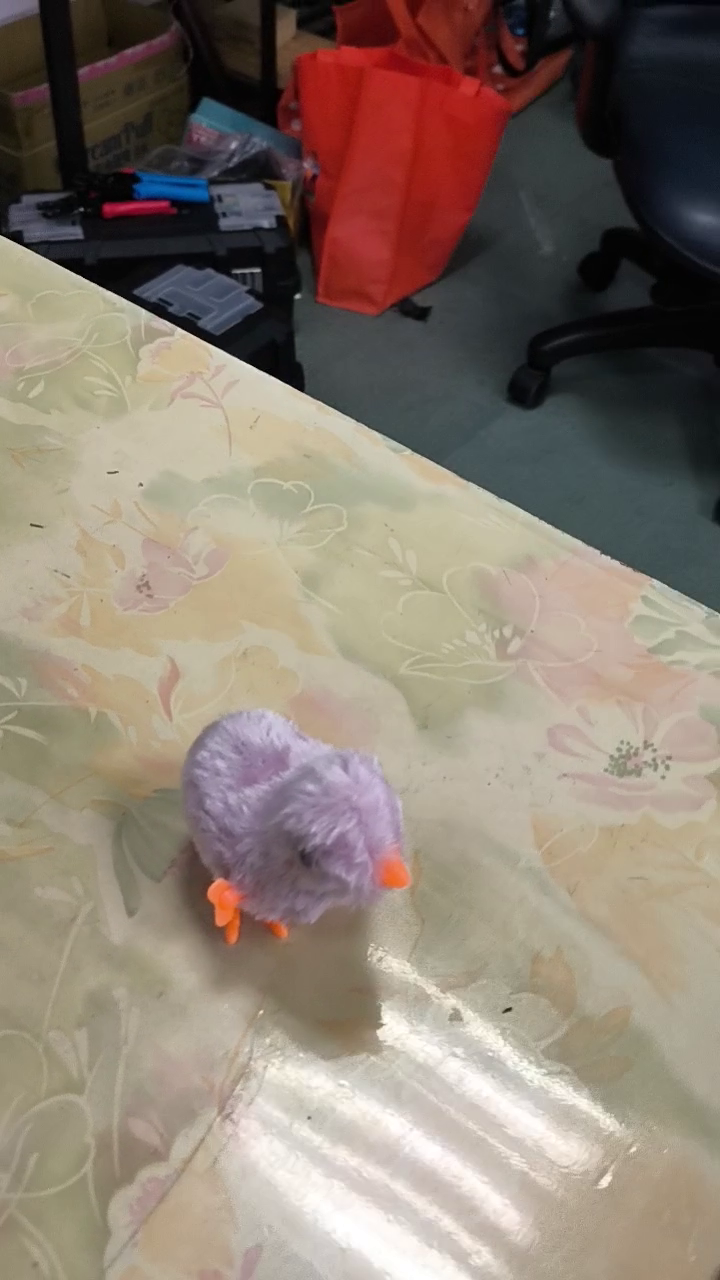pink chicken: (176, 700, 419, 948)
